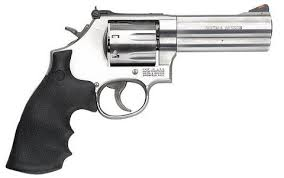gun: (4, 3, 272, 175)
